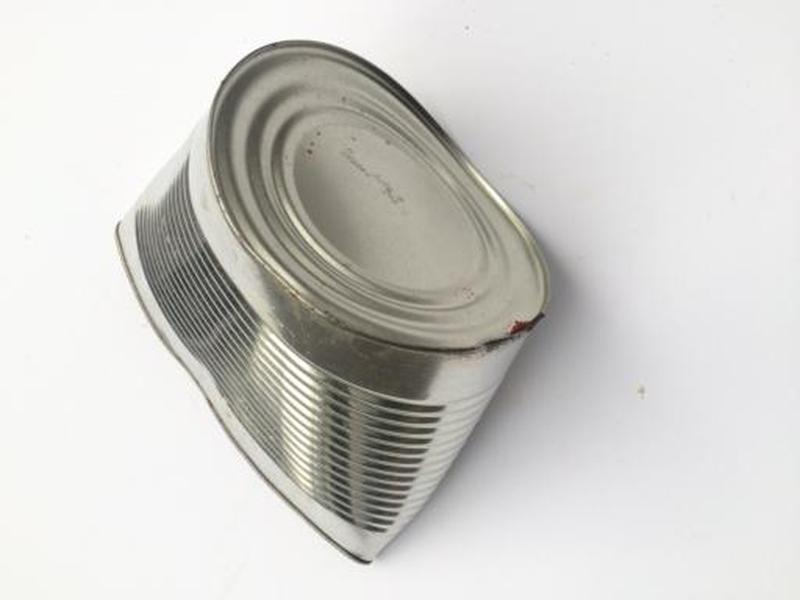can: (105, 36, 559, 574)
